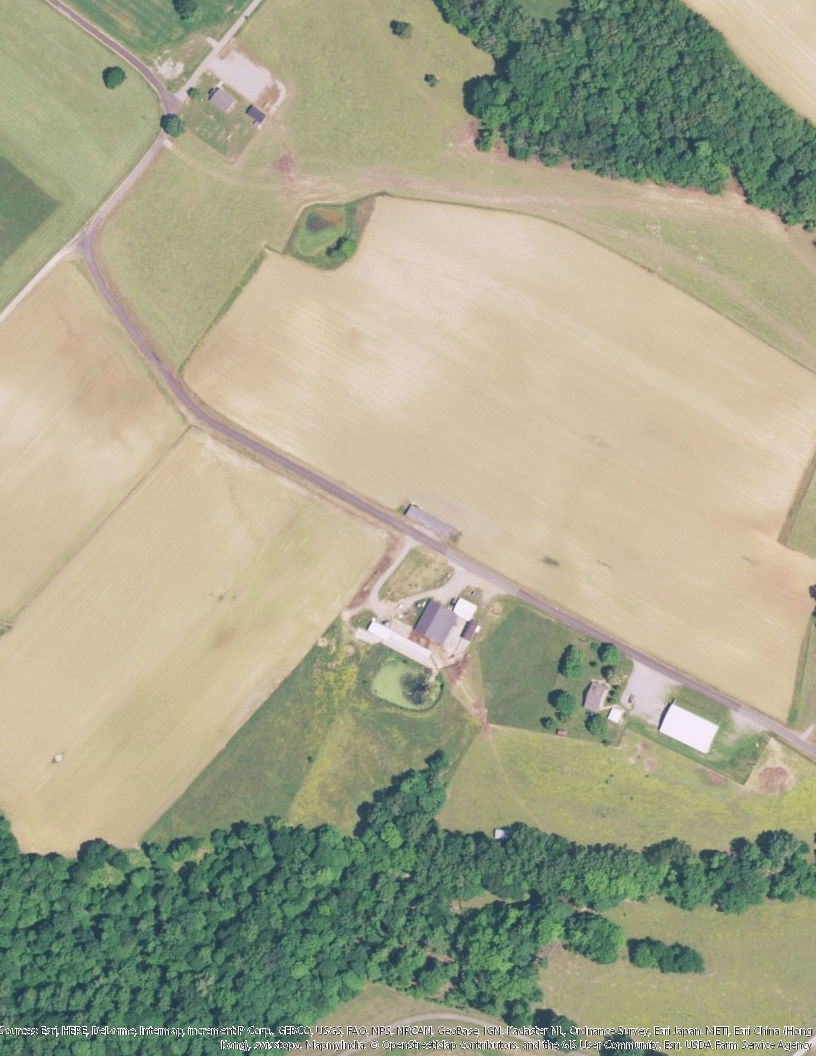cafo: (415, 583, 489, 659), (355, 610, 434, 669)
